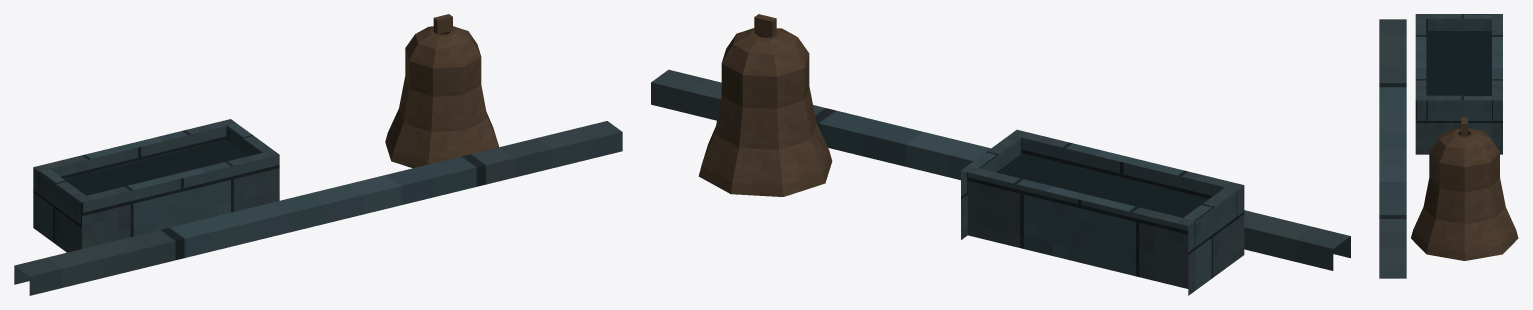
File: T1_Lane_Mid_B.fbx
3 renders of one model, left to right at view 1: azimuth 30°, elevation 25°; view 2: azimuth 150°, elevation 25°; view 3: azimuth 270°, elevation 25°, orthographic. The views are drawn at different scales.
Visible parts, largest first — view 1: T1_Lane_Mid_B; view 2: T1_Lane_Mid_B; view 3: T1_Lane_Mid_B.
Part boxes in pixels (bbox=[...]): T1_Lane_Mid_B: bbox=[14, 14, 622, 295]; T1_Lane_Mid_B: bbox=[651, 14, 1350, 295]; T1_Lane_Mid_B: bbox=[1379, 14, 1518, 278].
Bounding box in the file's own units: 4.5 × 0.952 × 1.02.
